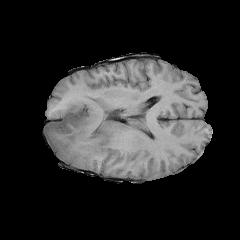glioma: (46, 104, 124, 164)
